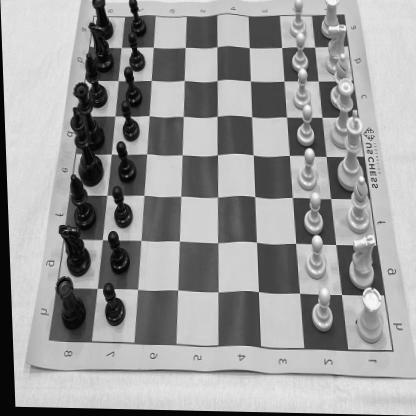black-bishop: (67, 175, 94, 231), (83, 54, 107, 110)
black-king: (68, 107, 104, 189)
black-knight: (56, 226, 89, 280), (88, 23, 113, 74)
black-pawn: (100, 284, 124, 328), (109, 188, 132, 230), (106, 232, 128, 274), (122, 68, 144, 108), (115, 144, 135, 185), (119, 102, 139, 143), (126, 33, 145, 73), (128, 0, 146, 38)
black-queen: (70, 82, 104, 152)
black-rook: (52, 277, 84, 331), (91, 0, 113, 41)
white-bishop: (344, 176, 371, 235), (328, 53, 352, 110)
white-king: (334, 110, 366, 192)
white-knight: (345, 233, 375, 290), (323, 23, 349, 76)
white-pawn: (302, 233, 326, 280), (309, 284, 332, 332), (295, 148, 320, 190), (301, 192, 325, 234), (294, 104, 316, 146), (292, 69, 312, 111), (290, 34, 311, 73), (290, 0, 310, 38)
white-queen: (327, 77, 356, 150)
white-rook: (352, 286, 384, 345), (319, 0, 342, 41)
